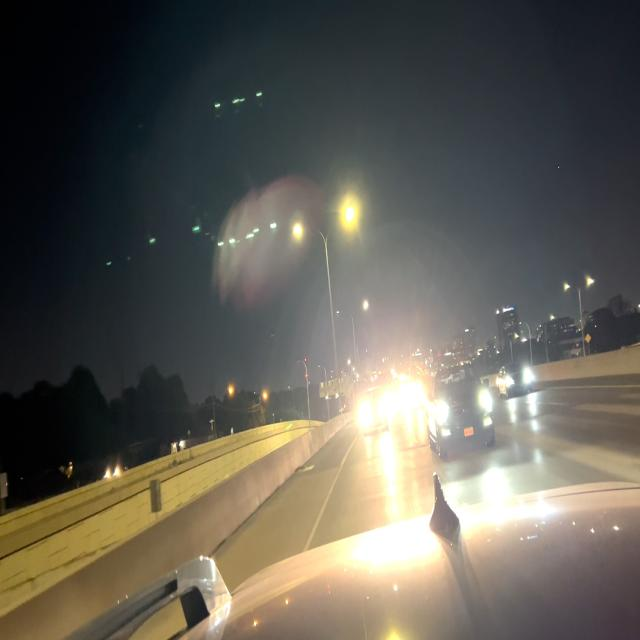back-of-sign: (149, 474, 162, 514)
